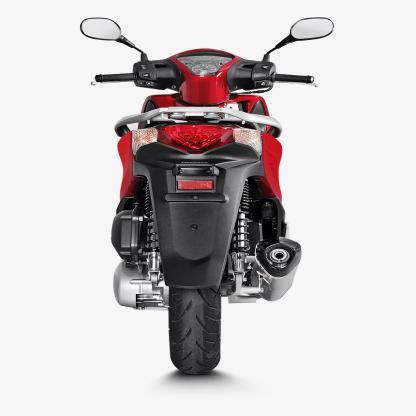Motorcycle: (62, 5, 339, 379)
